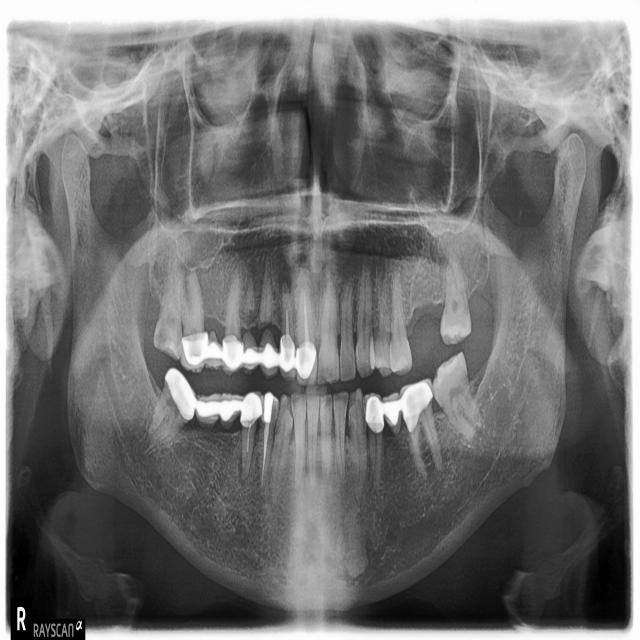mandibula: (59, 126, 591, 613)
